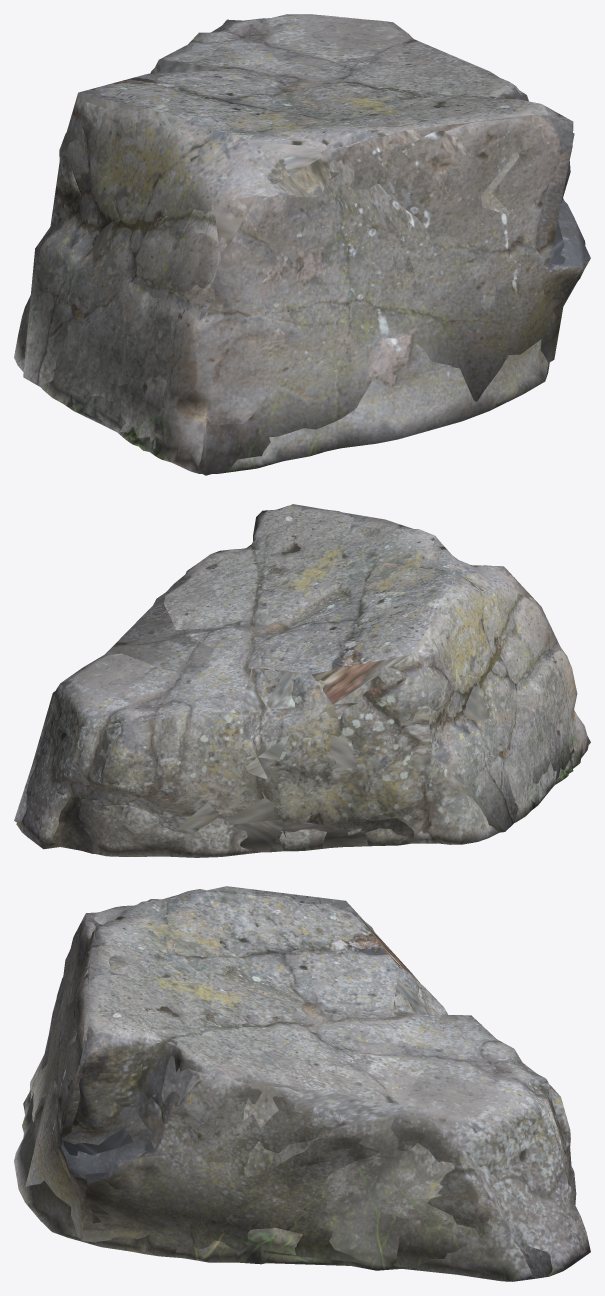
Rendered from stone_02.glb.
The picture shows the model from 3 angles, top to bottom: view 1: azimuth 30°, elevation 25°; view 2: azimuth 150°, elevation 25°; view 3: azimuth 270°, elevation 25°; orthographic projection. The views are drawn at different scales.
Visible parts, largest first — view 1: Rock.001, Pebble.001; view 2: Rock.001, Pebble.001; view 3: Rock.001, Pebble.001.
Boxes of the visible parts, bbox=[...] form: Rock.001: bbox=[14, 14, 585, 473]; Pebble.001: bbox=[23, 26, 590, 475]; Rock.001: bbox=[16, 505, 588, 857]; Pebble.001: bbox=[14, 504, 590, 853]; Rock.001: bbox=[14, 889, 590, 1281]; Pebble.001: bbox=[26, 886, 571, 1276].
Size of the model in its own units: 1.76 by 0.8869 by 2.
1 material, 1 textured.
